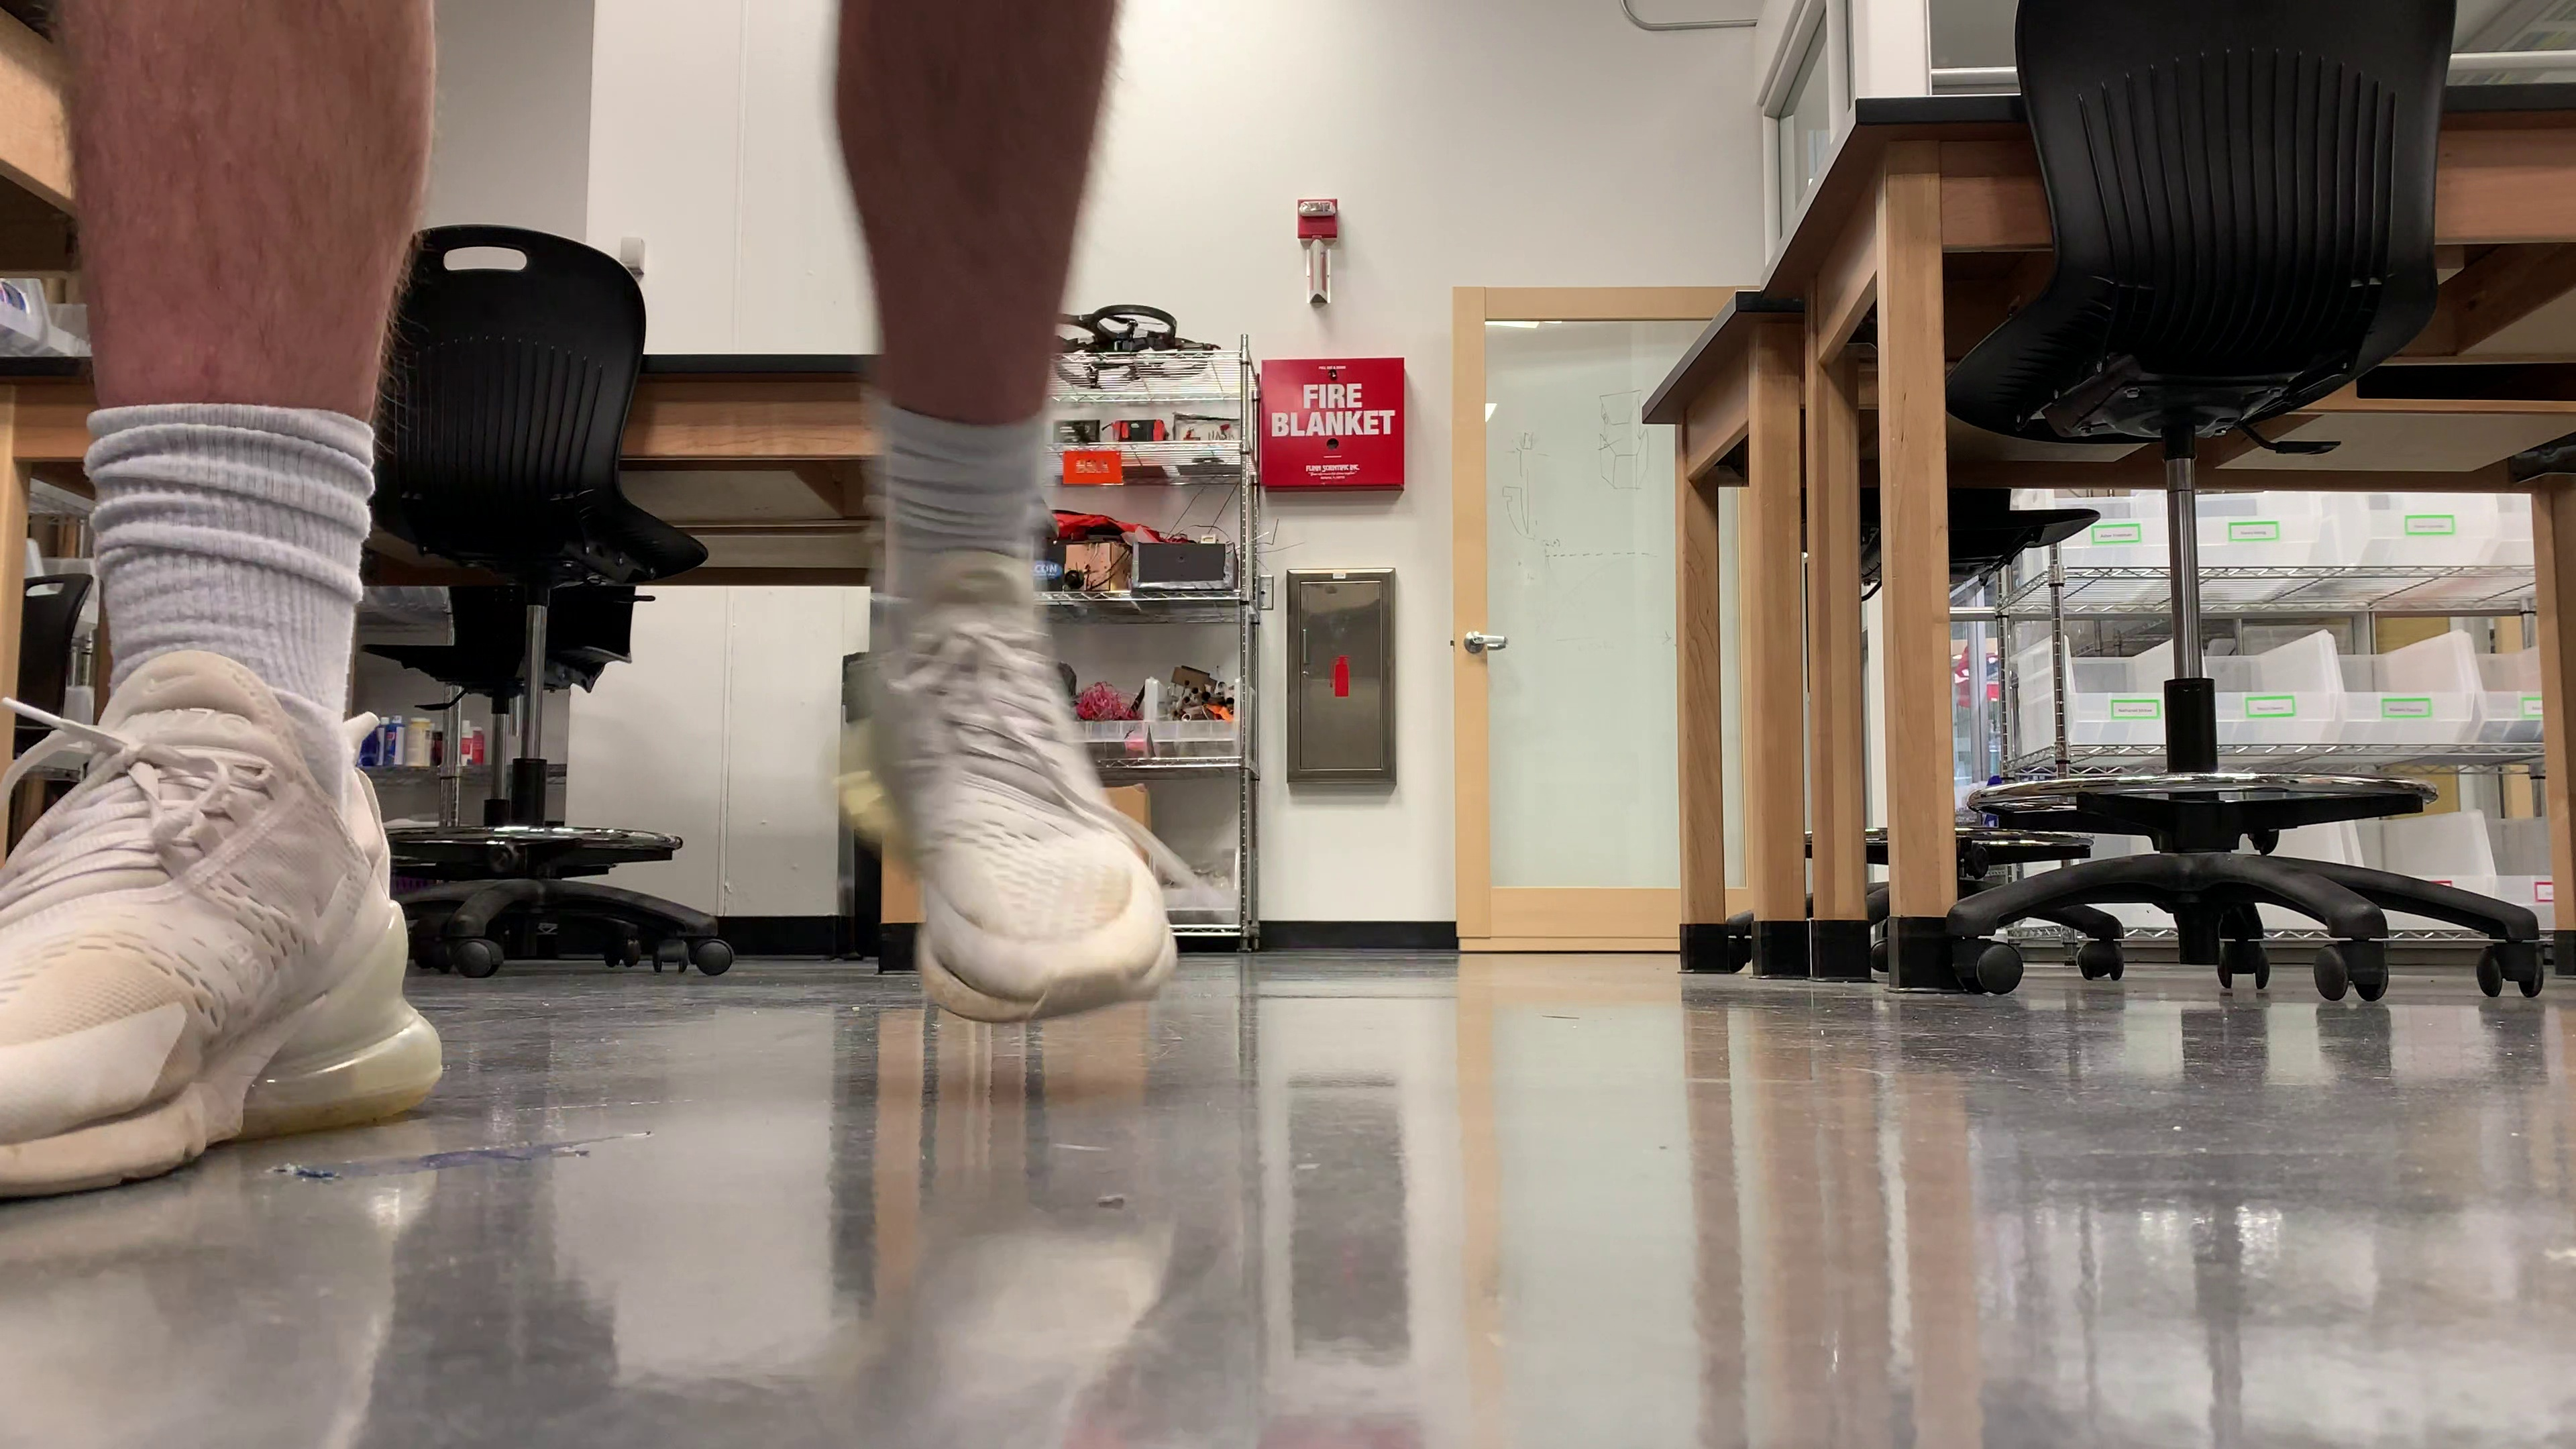shoe: (0, 653, 442, 1200), (863, 547, 1178, 1023)
